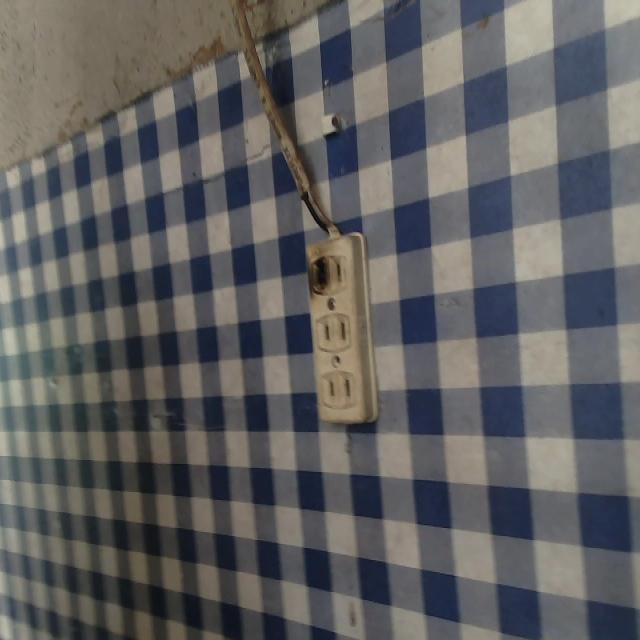-: (306, 252, 332, 297)
